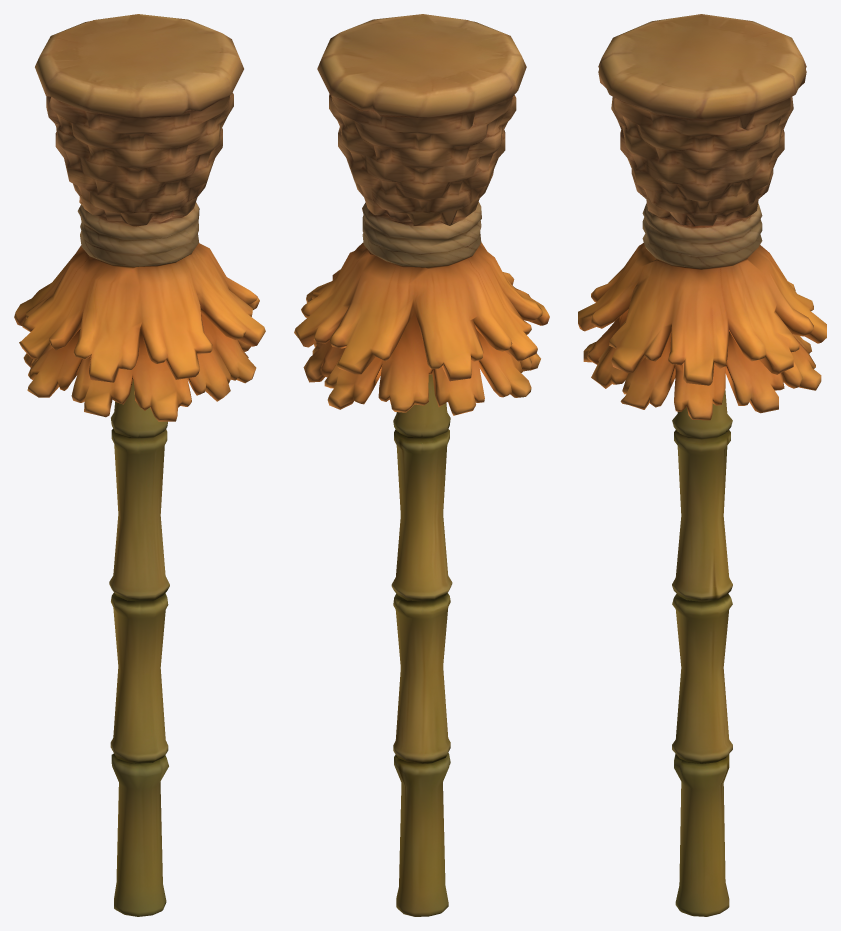
File: tripo_raw.glb
3 views of the same model, side by side, from view 1: azimuth 30°, elevation 25°; view 2: azimuth 150°, elevation 25°; view 3: azimuth 270°, elevation 25° (orthographic).
Visible parts, largest first — view 1: tripo_node_f30e22db-2083-4979-8c81-41956b03b345; view 2: tripo_node_f30e22db-2083-4979-8c81-41956b03b345; view 3: tripo_node_f30e22db-2083-4979-8c81-41956b03b345.
Part boxes in pixels (x1,y1,x2,y2): tripo_node_f30e22db-2083-4979-8c81-41956b03b345: [14, 14, 265, 916]; tripo_node_f30e22db-2083-4979-8c81-41956b03b345: [294, 14, 549, 916]; tripo_node_f30e22db-2083-4979-8c81-41956b03b345: [578, 14, 826, 916].
Size of the model in its own units: 0.2759 by 1 by 0.2642.
1 material, 1 textured.
